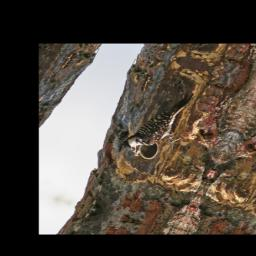Woodpecker: (119, 83, 204, 164)
